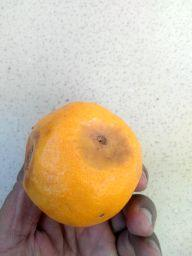Unripe: (25, 99, 145, 223)
